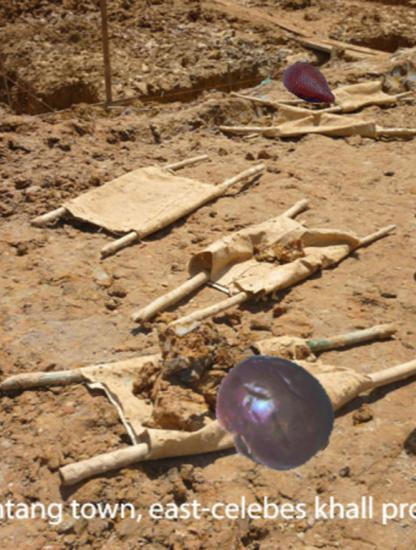Passion: (210, 348, 337, 475)
Salak: (279, 53, 342, 116)
